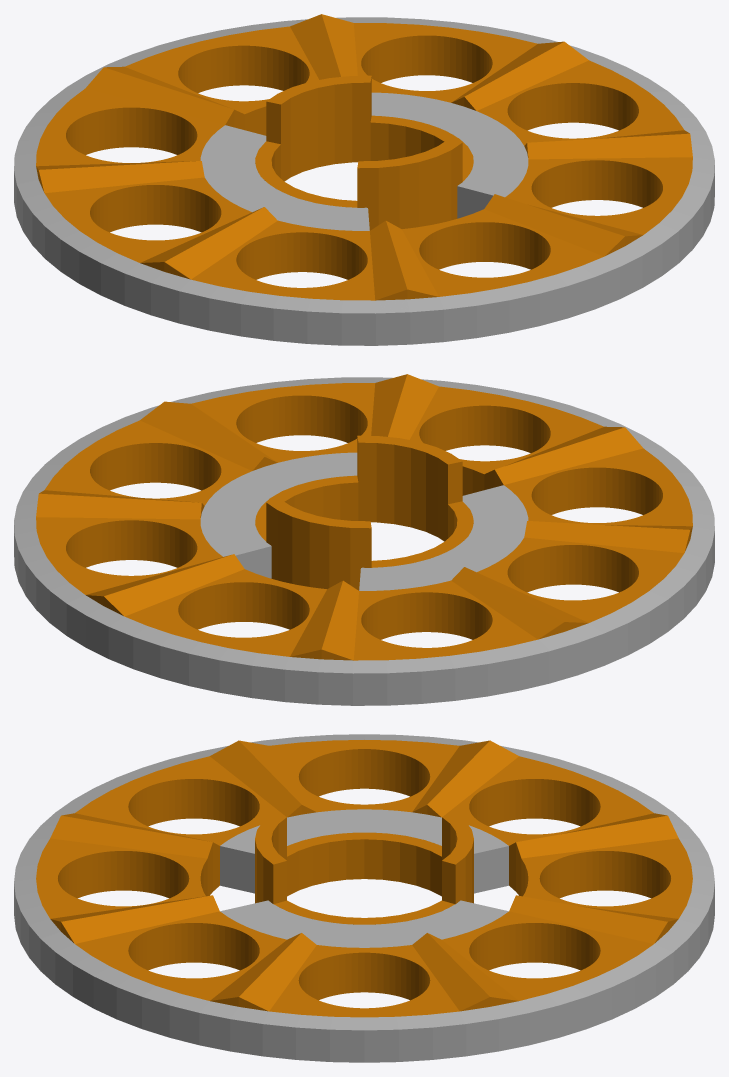
The model's file is NineHoles_ver2.fbx.
3 renders of one model, top to bottom at view 1: azimuth 30°, elevation 25°; view 2: azimuth 150°, elevation 25°; view 3: azimuth 270°, elevation 25°, orthographic.
Parts seen in each view (by area): view 1: Cylinder.001, Cylinder, Cylinder.003, Cylinder.002; view 2: Cylinder.001, Cylinder, Cylinder.003, Cylinder.002; view 3: Cylinder.001, Cylinder, Cylinder.002, Cylinder.003.
Boxes of the visible parts, x1,y1,x2,y2 form: Cylinder.001: (36, 14, 692, 300); Cylinder: (14, 17, 714, 345); Cylinder.003: (255, 75, 473, 230); Cylinder.002: (200, 92, 528, 230); Cylinder.001: (36, 374, 692, 660); Cylinder: (14, 377, 714, 705); Cylinder.003: (255, 435, 473, 590); Cylinder.002: (200, 452, 528, 590); Cylinder.001: (36, 740, 692, 1017); Cylinder: (14, 734, 714, 1062); Cylinder.002: (220, 809, 508, 947); Cylinder.003: (255, 813, 473, 924).
Size of the model in its own units: 3200 by 400 by 3200.
